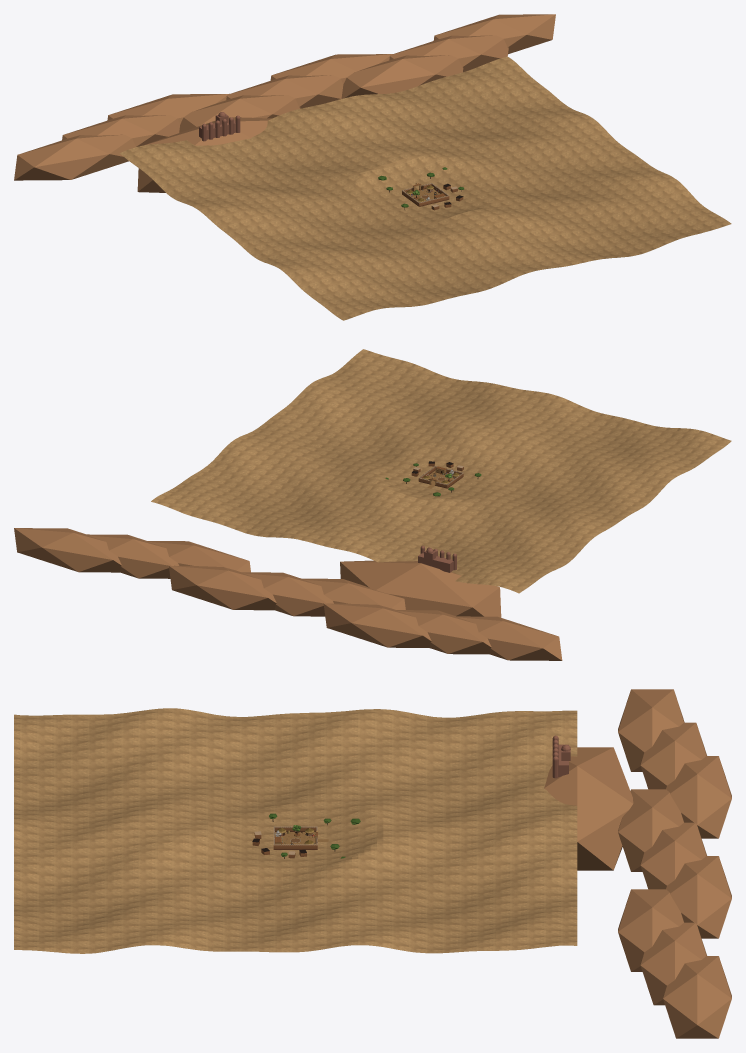
The model's file is village_dusk.glb.
3 views of the same model, one above another, from view 1: azimuth 30°, elevation 25°; view 2: azimuth 150°, elevation 25°; view 3: azimuth 270°, elevation 25° (orthographic). The views are drawn at different scales.
Parts seen in each view (by area): view 1: Env_Dunes, Env_Outside; view 2: Env_Dunes, Env_Outside; view 3: Env_Dunes, Env_Outside.
Part boxes in pixels (x1,y1,x2,y2): Env_Dunes: [119, 56, 731, 320]; Env_Outside: [14, 14, 555, 210]; Env_Dunes: [151, 349, 731, 593]; Env_Outside: [14, 461, 562, 660]; Env_Dunes: [14, 708, 577, 953]; Env_Outside: [252, 689, 731, 1038].
Size of what is drawn, in the model's own units: 432 by 60.88 by 382.
Materials: 14 (13 with a texture image).
